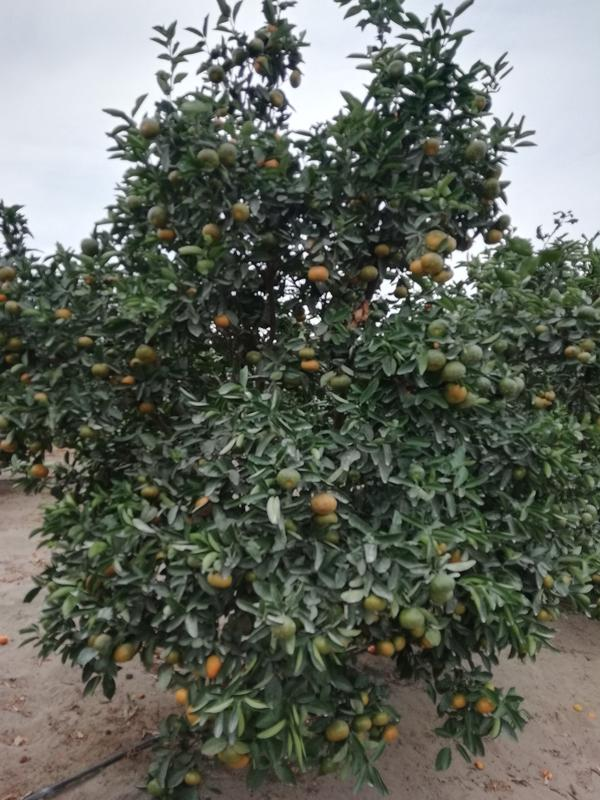mandarina naranja: (443, 383, 467, 403), (421, 253, 443, 274), (307, 265, 329, 282), (477, 697, 495, 714), (484, 229, 503, 244), (213, 314, 230, 329), (384, 726, 399, 743), (30, 465, 49, 478), (453, 692, 466, 708), (374, 244, 389, 257)
mandarina verde: (272, 615, 296, 638), (276, 468, 301, 490), (311, 494, 337, 515), (326, 719, 349, 742), (197, 150, 220, 173), (399, 608, 424, 629), (430, 575, 455, 594), (443, 362, 467, 381), (147, 206, 169, 226), (465, 140, 487, 160), (462, 344, 483, 364), (140, 118, 160, 139), (426, 349, 445, 370), (350, 717, 372, 735), (207, 573, 232, 588), (363, 596, 388, 611), (221, 144, 239, 164), (429, 320, 447, 340), (136, 345, 157, 362), (330, 374, 352, 390), (232, 203, 250, 222), (501, 377, 517, 398), (387, 60, 404, 78), (115, 644, 133, 661), (81, 239, 98, 256), (361, 265, 378, 282), (207, 65, 224, 82), (269, 88, 284, 107), (376, 642, 394, 657), (155, 228, 175, 241), (8, 337, 24, 353), (473, 376, 490, 391), (91, 364, 110, 377), (185, 771, 201, 786), (249, 38, 264, 54), (77, 336, 93, 349), (300, 359, 318, 370), (4, 301, 19, 313)
